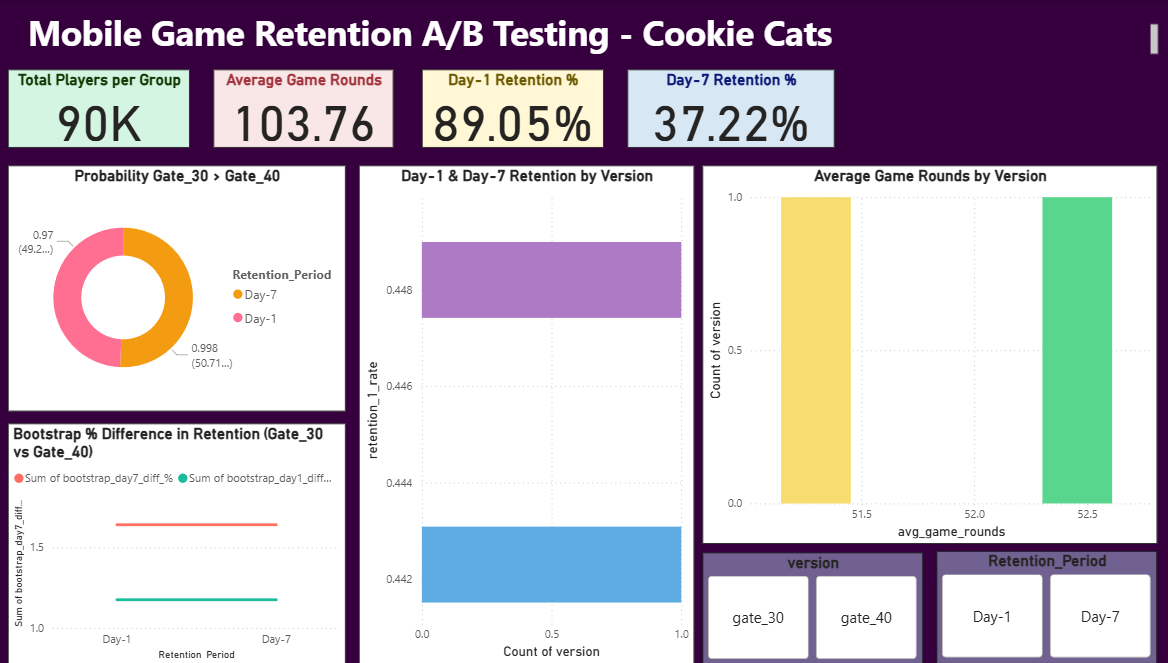

This screenshot's page, from the dashboard's own definition file:
{"tool":"powerbi","page":{"name":"Page 1","canvas":[1280,720],"ordinal":0},"visuals":[{"type":"clusteredBarChart","title":"Day-1 & Day-7 Retention by Version","fields":{"Y":["Count(cookie_cats_summary.version)"],"Category":["cookie_cats_summary.retention_1_rate","cookie_cats_summary.retention_7_rate"]},"box":[393.5,179.7,362.7,539.2],"z":0},{"type":"card","title":"Total Players per Group","fields":{"Values":["Sum(cookie_cats_summary.total_players)"]},"box":[13,76.3,196.4,84.4],"z":1000},{"type":"card","title":"Average Game Rounds","fields":{"Values":["Sum(cookie_cats_summary.avg_game_rounds)"]},"box":[235.3,76.3,194.8,84.4],"z":2000},{"type":"card","title":"Day-1 Retention %","fields":{"Values":["Sum(cookie_cats_summary.retention_1_rate)"]},"box":[460.9,76.3,196.4,84.4],"z":3000},{"type":"card","title":"Day-7 Retention %","fields":{"Values":["Sum(cookie_cats_summary.retention_7_rate)"]},"box":[683.3,76.3,224,84.4],"z":4000},{"type":"columnChart","title":"Average Game Rounds by Version","fields":{"Category":["cookie_cats_summary.avg_game_rounds"],"Y":["CountNonNull(cookie_cats_summary.version)"]},"box":[764.3,179.7,492.2,409.7],"z":5000},{"type":"textbox","box":[29.9,13.9,1232.9,49.8],"z":6000},{"type":"donutChart","title":"Probability Gate_30 > Gate_40","fields":{"Category":["probability_data.Retention_Period"],"Y":["Sum(probability_data.Probability_Gate30_Higher)"]},"box":[13,180.2,365.2,266.2],"z":7000},{"type":"lineChart","title":"Bootstrap % Difference in Retention (Gate_30 vs Gate_40)","fields":{"Category":["probability_data.Retention_Period"],"Y":["Sum(cookie_cats_summary.bootstrap_day7_diff_%)","Sum(cookie_cats_summary.bootstrap_day1_diff_%)"]},"box":[13,459.3,365.2,261.3],"z":9000},{"type":"advancedSlicerVisual","fields":{"Values":["cookie_cats_summary.version"]},"box":[764.4,598.9,238.6,121.7],"z":9001},{"type":"advancedSlicerVisual","fields":{"Values":["probability_data.Retention_Period"]},"box":[1017.6,597.3,238.6,121.7],"z":9002}]}

Visuals, with their boxes in screenshot pixels (x1, y1, x2, y2), scaled from the page's 1280x720 canvas onto the 1168x663 screenshot:
"Day-1 & Day-7 Retention by Version" clusteredBarChart: select_region(359, 165, 690, 662)
"Total Players per Group" card: select_region(12, 70, 191, 148)
"Average Game Rounds" card: select_region(215, 70, 392, 148)
"Day-1 Retention %" card: select_region(421, 70, 600, 148)
"Day-7 Retention %" card: select_region(624, 70, 828, 148)
"Average Game Rounds by Version" columnChart: select_region(697, 165, 1147, 543)
textbox: select_region(27, 13, 1152, 59)
"Probability Gate_30 > Gate_40" donutChart: select_region(12, 166, 345, 411)
"Bootstrap % Difference in Retention (Gate_30 vs Gate_40)" lineChart: select_region(12, 423, 345, 662)
advancedSlicerVisual - cookie_cats_summary.version: select_region(698, 551, 915, 662)
advancedSlicerVisual - probability_data.Retention_Period: select_region(929, 550, 1146, 662)
